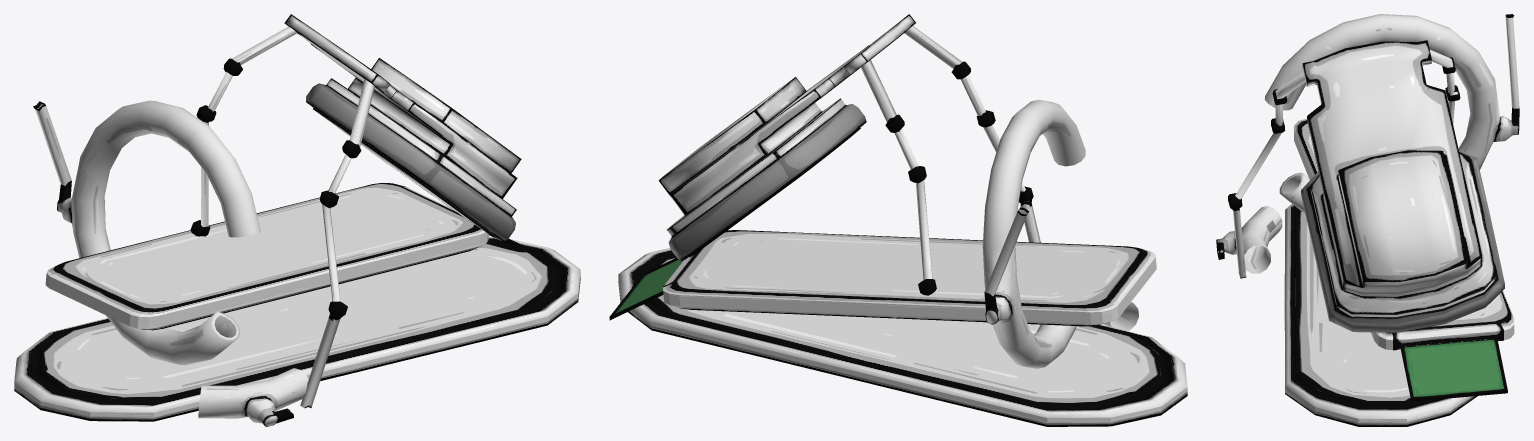
Rendered from medical_bed02.fbx.
The picture shows the model from 3 angles, left to right: view 1: azimuth 30°, elevation 25°; view 2: azimuth 150°, elevation 25°; view 3: azimuth 270°, elevation 25°; orthographic projection. The views are drawn at different scales.
Parts seen in each view (by area): view 1: hosp_bed_broken01; view 2: hosp_bed_broken01; view 3: hosp_bed_broken01.
Boxes of the visible parts, <box> form: hosp_bed_broken01: <box>14,14,580,426</box>; hosp_bed_broken01: <box>609,14,1187,426</box>; hosp_bed_broken01: <box>1216,14,1519,426</box>.
Size of the model in its own units: 527 by 280 by 280.
